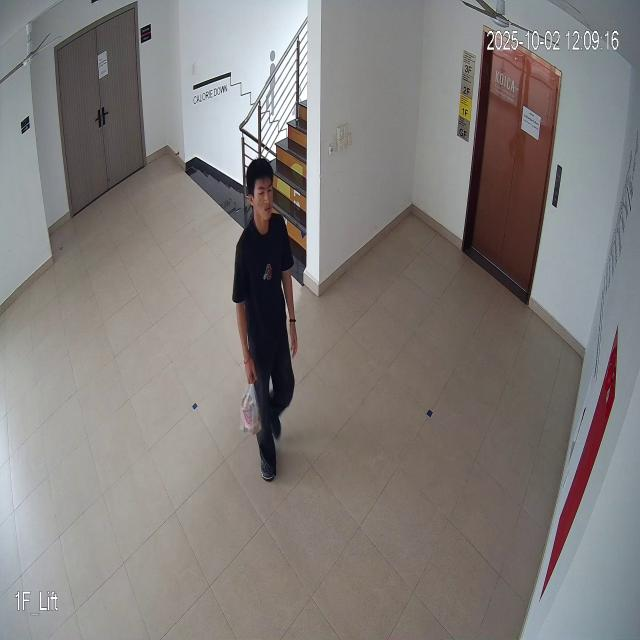face: (244, 158, 278, 226)
